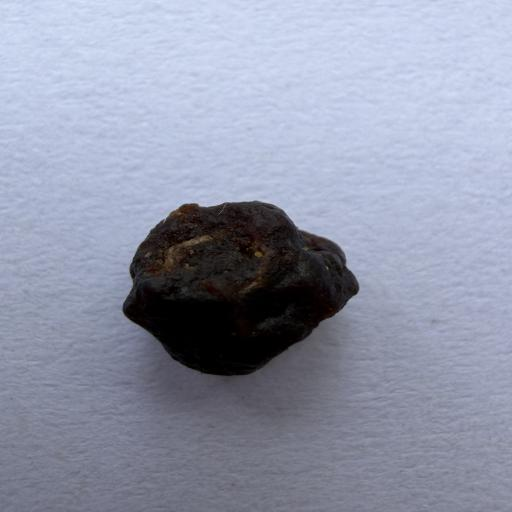Black_pepper: (124, 184, 362, 384)
